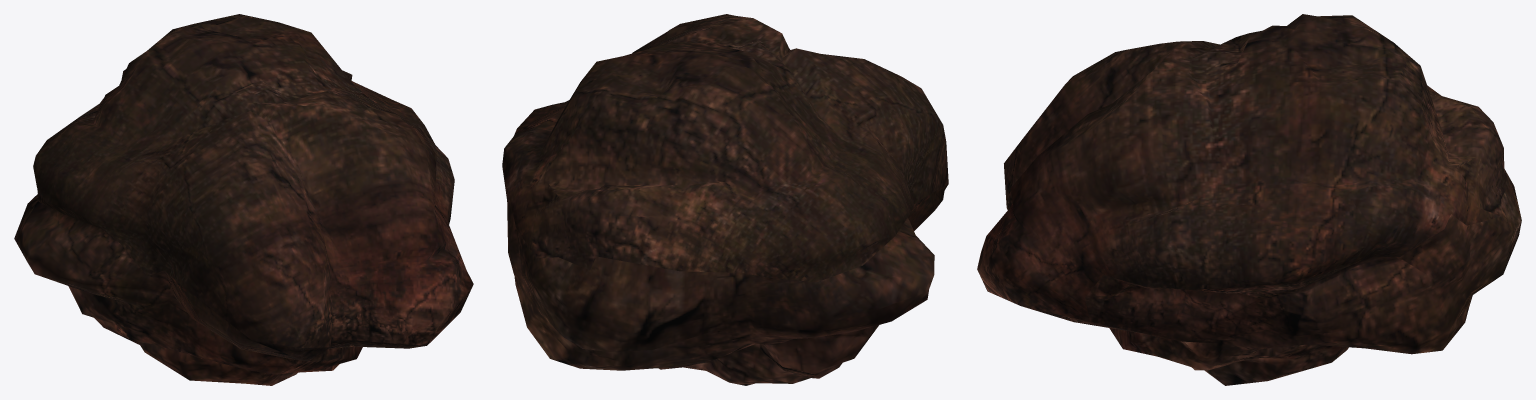
File: rock_red_small04_projected.dae
The picture shows the model from 3 angles, left to right: view 1: azimuth 30°, elevation 25°; view 2: azimuth 150°, elevation 25°; view 3: azimuth 270°, elevation 25°; orthographic projection. The views are drawn at different scales.
Visible parts, largest first — view 1: Mesh02; view 2: Mesh02; view 3: Mesh02.
Part boxes in pixels (x1=…): Mesh02: x1=14, y1=14, x2=473, y2=385; Mesh02: x1=502, y1=14, x2=948, y2=385; Mesh02: x1=977, y1=14, x2=1521, y2=385.
Bounding box in the file's own units: 2.93 × 2.3 × 3.29.
